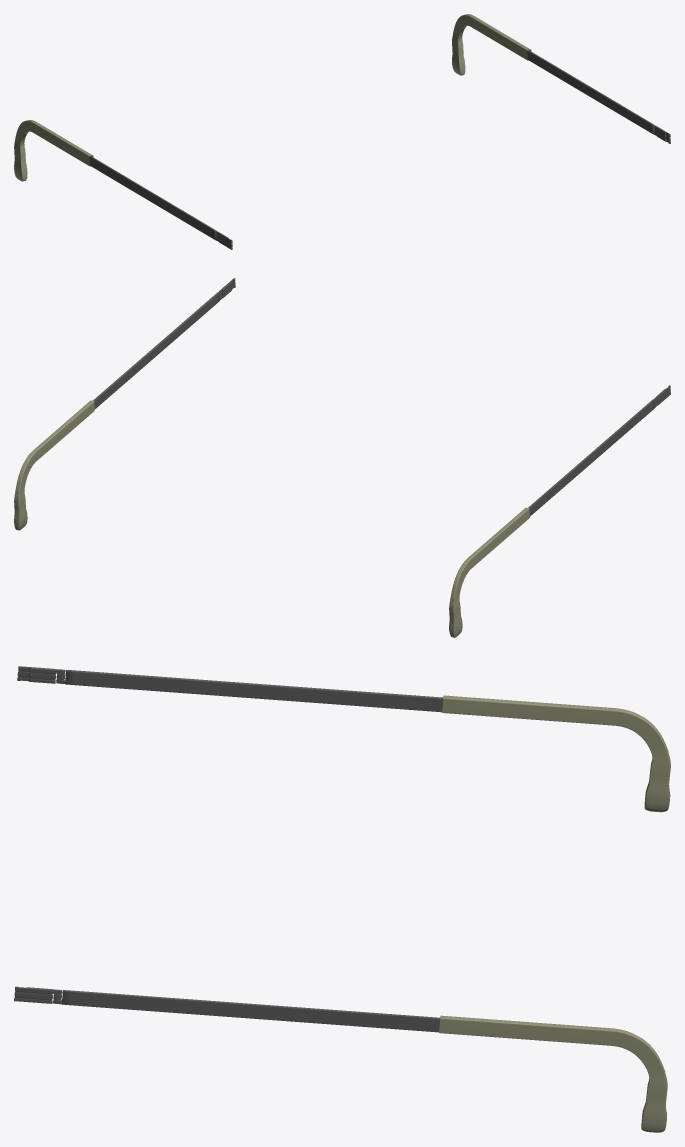
Rendered from custom-temple-tips-1.gltf.
3 renders of one model, top to bottom at view 1: azimuth 30°, elevation 25°; view 2: azimuth 150°, elevation 25°; view 3: azimuth 270°, elevation 25°, orthographic. The views are drawn at different scales.
Visible parts, largest first — view 1: Cube.001, Cube.002; view 2: Cube.002, Cube.001; view 3: Cube.001, Cube.002.
Part boxes in pixels (<box>): Cube.001: <box>89,50,670,249</box>; Cube.002: <box>14,14,531,181</box>; Cube.002: <box>14,400,529,637</box>; Cube.001: <box>93,278,670,516</box>; Cube.001: <box>14,666,443,1032</box>; Cube.002: <box>439,695,670,1132</box>.
Bounding box in the file's own units: 0.9923 × 0.2049 × 0.849.
